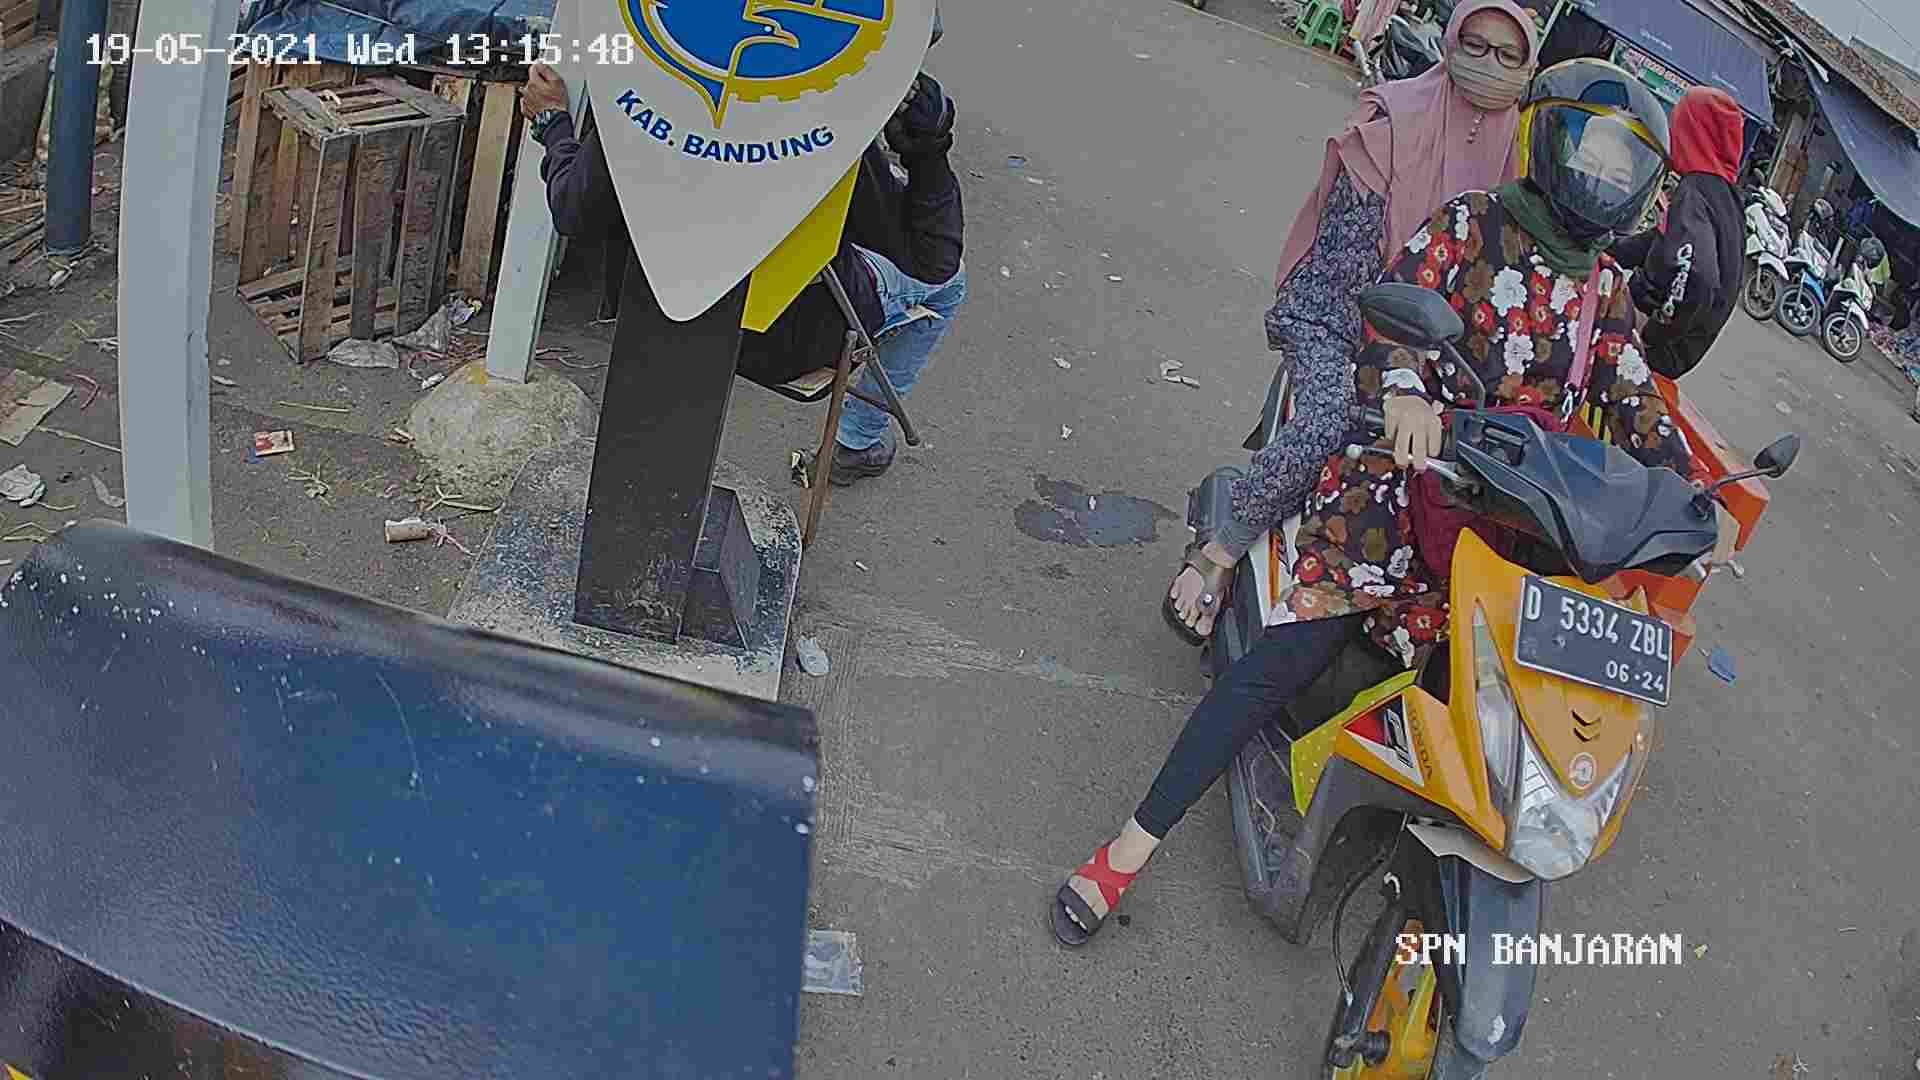motor: (1192, 385, 1667, 1080)
